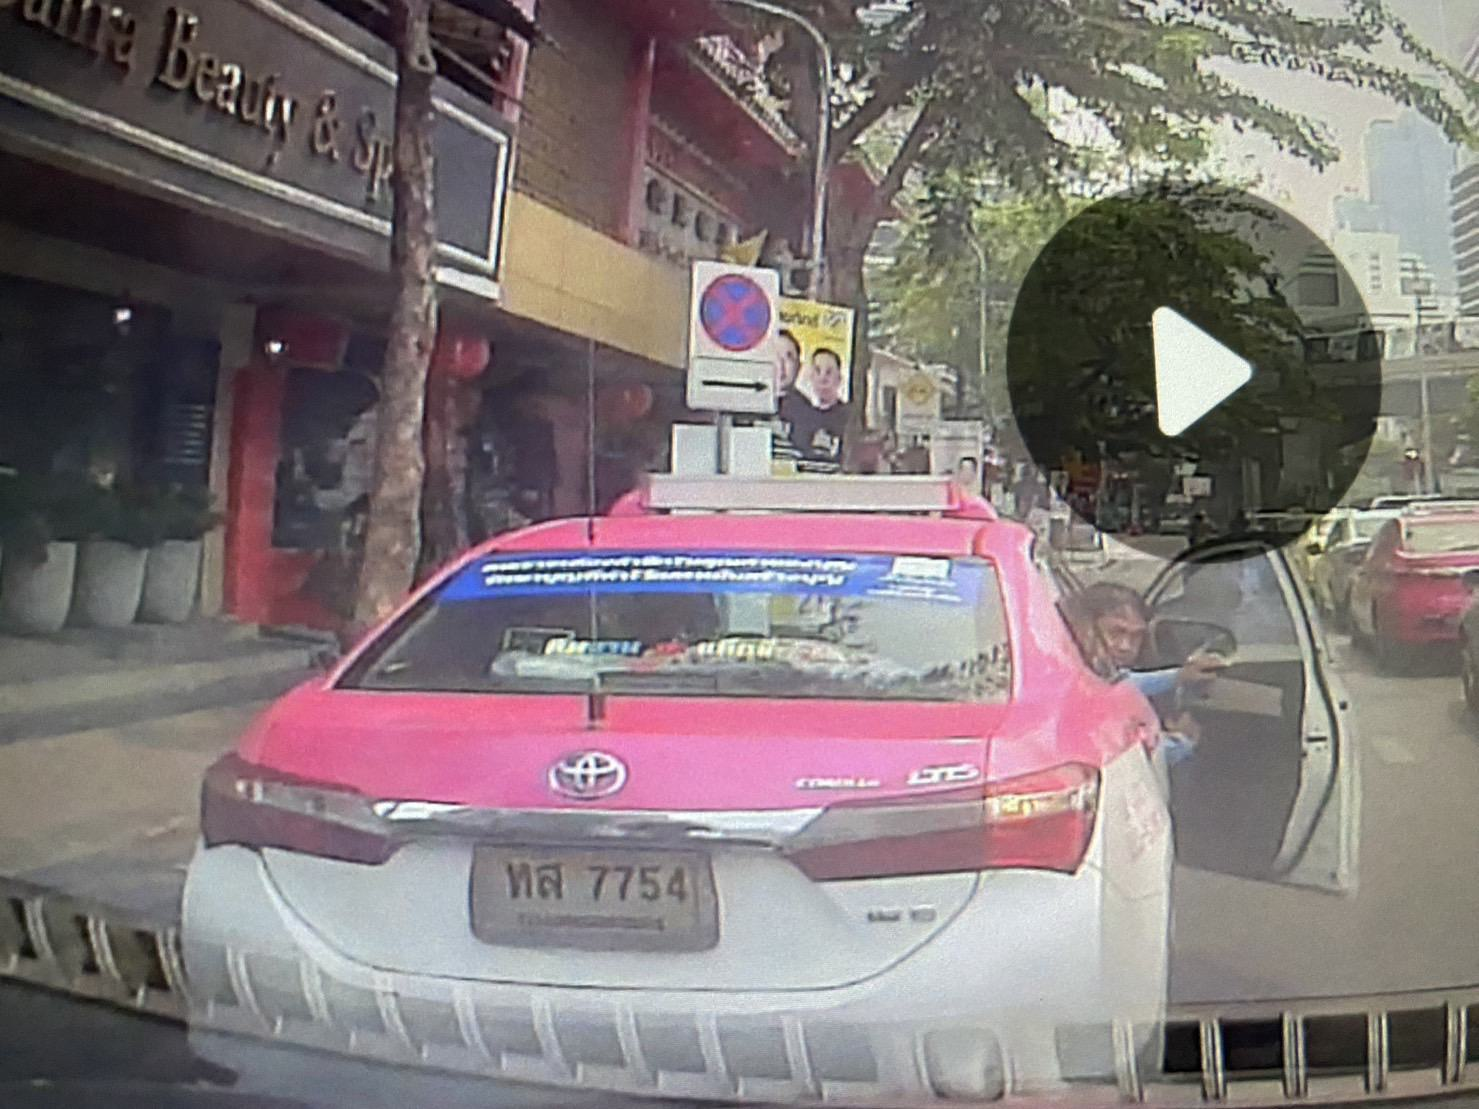Banner: (751, 295, 858, 486)
